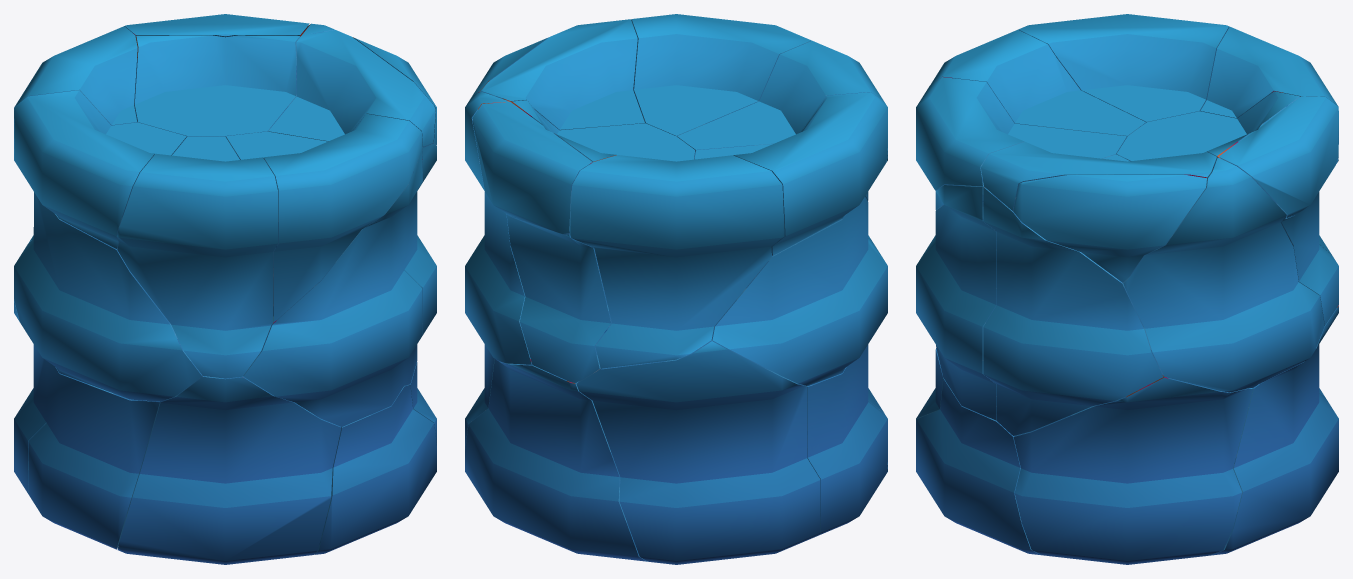
Rendered from BarrelC_broken.glb.
3 views of the same model, side by side, from view 1: azimuth 30°, elevation 25°; view 2: azimuth 150°, elevation 25°; view 3: azimuth 270°, elevation 25° (orthographic).
Visible parts, largest first — view 1: Barrel_C_cell.010, Barrel_C_cell.005, Barrel_C_cell.012, Barrel_C_cell.014, Barrel_C_cell.015, Barrel_C_cell.007, Barrel_C_cell.013, Barrel_C_cell.017, Barrel_C_cell.003, Barrel_C_cell.002, Barrel_C_cell.001, Barrel_C_cell (+4 smaller); view 2: Barrel_C_cell.016, Barrel_C_cell.001, Barrel_C_cell.006, Barrel_C_cell.014, Barrel_C_cell.013, Barrel_C_cell.015, Barrel_C_cell.017, Barrel_C_cell.002, Barrel_C_cell.007, Barrel_C_cell.011, Barrel_C_cell.005, Barrel_C_cell.018 (+2 smaller); view 3: Barrel_C_cell.009, Barrel_C_cell.018, Barrel_C_cell, Barrel_C_cell.006, Barrel_C_cell.017, Barrel_C_cell.012, Barrel_C_cell.008, Barrel_C_cell.003, Barrel_C_cell.015, Barrel_C_cell.005, Barrel_C_cell.013, Barrel_C_cell.011 (+3 smaller).
Part boxes in pixels (box(x1,y1,x2,y2)): Barrel_C_cell.010: box(117, 375, 341, 564); Barrel_C_cell.005: box(116, 136, 277, 378); Barrel_C_cell.012: box(243, 149, 422, 426); Barrel_C_cell.014: box(14, 192, 202, 401); Barrel_C_cell.015: box(226, 113, 422, 322); Barrel_C_cell.007: box(28, 361, 160, 549); Barrel_C_cell.013: box(134, 35, 300, 137); Barrel_C_cell.017: box(14, 90, 186, 248); Barrel_C_cell.003: box(314, 385, 436, 554); Barrel_C_cell.002: box(268, 30, 435, 146); Barrel_C_cell.001: box(14, 26, 137, 161); Barrel_C_cell: box(404, 143, 436, 385); Barrel_C_cell.016: box(576, 340, 820, 564); Barrel_C_cell.001: box(570, 155, 784, 368); Barrel_C_cell.006: box(465, 359, 647, 561); Barrel_C_cell.014: box(711, 196, 887, 386); Barrel_C_cell.013: box(506, 100, 695, 382); Barrel_C_cell.015: box(631, 14, 811, 136); Barrel_C_cell.017: box(694, 92, 887, 255); Barrel_C_cell.002: box(480, 19, 644, 130); Barrel_C_cell.007: box(804, 344, 887, 537); Barrel_C_cell.011: box(472, 102, 592, 233); Barrel_C_cell.005: box(677, 40, 887, 238); Barrel_C_cell.018: box(465, 92, 532, 364); Barrel_C_cell.009: box(1013, 376, 1253, 564); Barrel_C_cell.018: box(1123, 157, 1324, 392); Barrel_C_cell: box(983, 187, 1163, 435); Barrel_C_cell.006: box(1209, 305, 1338, 555); Barrel_C_cell.017: box(1018, 14, 1229, 122); Barrel_C_cell.012: box(916, 185, 996, 420); Barrel_C_cell.008: box(1013, 175, 1206, 282); Barrel_C_cell.003: box(916, 378, 1041, 555); Barrel_C_cell.015: box(916, 77, 1126, 210); Barrel_C_cell.005: box(931, 29, 1145, 236); Barrel_C_cell.013: box(1116, 91, 1338, 325); Barrel_C_cell.011: box(1219, 96, 1338, 218).
Bounding box in the file's own units: 1 × 1 × 1.
1 material, 1 textured.
